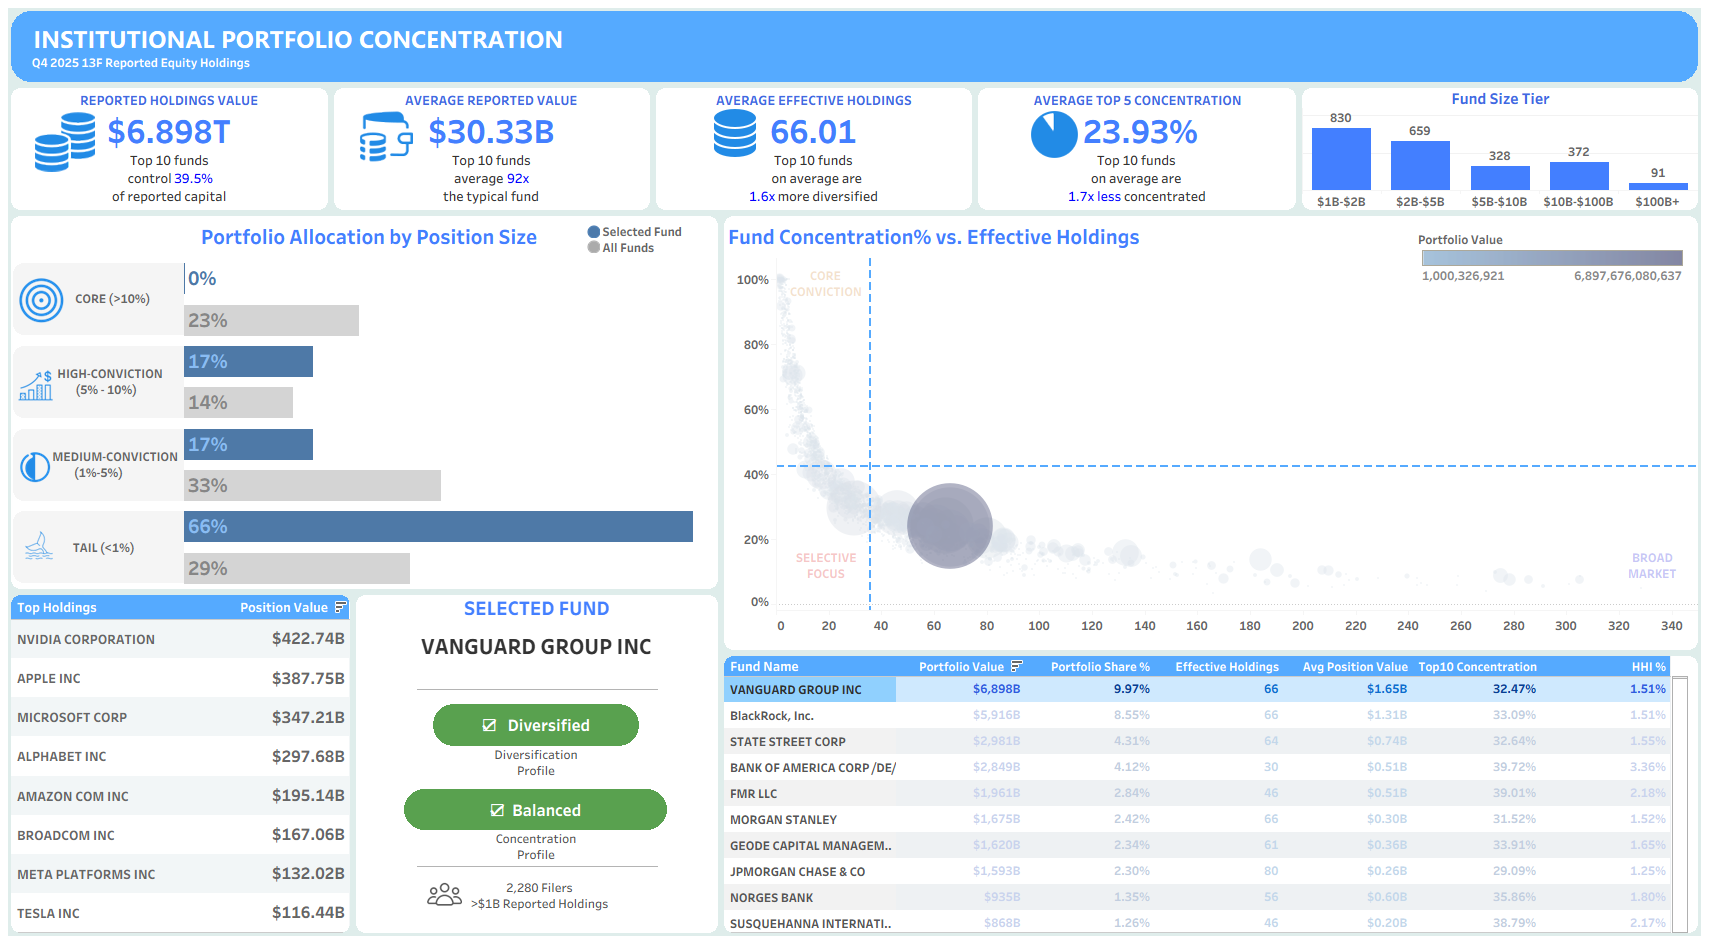

What the dashboard file says about the page in this screenshot:
{"tool":"tableau","page":{"name":"Dashboard 1","canvas":[1000,1000],"units":"permille","ordinal":0},"visuals":[{"type":"title","box":[4.7,8.5,990.6,81.5]},{"type":"worksheet","title":"Sheet 2","mark":"Automatic","box":[4.7,90,188.7,136]},{"type":"worksheet","title":"Sheet 3","mark":"Automatic","box":[193.4,90,188.5,136]},{"type":"worksheet","title":"Sheet 6","mark":"Automatic","box":[381.9,90,188.4,136]},{"type":"worksheet","title":"Sheet 7","mark":"Automatic","box":[570.3,90,189.7,136]},{"type":"worksheet","title":"Sheet 11","mark":"Bar","rows":["fund_name"],"cols":["Calculation_0336177946624000"],"box":[760,90,235.3,136]},{"type":"image","param":"C:/Users/Raav/Desktop/Work Stuff/PROJECT 2/Final/Institutional Portfolio Concent","box":[209.5,115.5,33.9,58.3]},{"type":"image","param":"C:/Users/Raav/Desktop/Work Stuff/PROJECT 2/Final/Institutional Portfolio Concent","box":[415.4,115.5,29.3,61.4]},{"type":"image","param":"C:/Users/Raav/Desktop/Work Stuff/PROJECT 2/Final/Institutional Portfolio Concent","box":[602.1,115.5,29.8,56.1]},{"type":"image","param":"C:/Users/Raav/Desktop/Work Stuff/PROJECT 2/Final/Institutional Portfolio Concent","box":[20.5,118.6,38,63.6]},{"type":"blank","box":[4.7,226,103,401.6]},{"type":"worksheet","title":"Sheet 8","mark":"Bar","rows":["position_bucket (bucket_summary_clean)"],"box":[107.7,226,314.4,401.6]},{"type":"worksheet","title":"Sheet 5","mark":"Circle","rows":["top5_concentration"],"cols":["effective_holdings"],"box":[422.1,226,573.2,465.3]},{"type":"text","box":[351.1,226.7,55.6,54]},{"type":"image","param":"C:/Users/Raav/Desktop/Work Stuff/PROJECT 2/Final/Institutional Portfolio Concent","box":[343.5,238.3,7.6,19.1]},{"type":"legend","title":"Sheet 5","param":"[federated.1q4xv8o17jksh01113fyi0gnvkeu].[sum:portfolio_value:qk]","box":[829.7,240.5,157.4,59.3]},{"type":"image","param":"C:/Users/Raav/Desktop/Work Stuff/PROJECT 2/Final/Institutional Portfolio Concent","box":[343.5,254.2,7.6,19.1]},{"type":"text","box":[5.9,278.6,101.8,76.3]},{"type":"image","param":"C:/Users/Raav/Desktop/Work Stuff/PROJECT 2/Final/Institutional Portfolio Concent","box":[8.8,290.2,31.1,56.1]},{"type":"text","box":[5.9,366.5,101.8,76.3]},{"type":"image","param":"C:/Users/Raav/Desktop/Work Stuff/PROJECT 2/Final/Institutional Portfolio Concent","box":[9.4,387.7,23.4,41.3]},{"type":"text","box":[5.9,454.4,101.8,76.3]},{"type":"image","param":"C:/Users/Raav/Desktop/Work Stuff/PROJECT 2/Final/Institutional Portfolio Concent","box":[10.6,476.7,20.5,36]},{"type":"text","box":[5.9,541.3,101.8,76.3]},{"type":"image","param":"C:/Users/Raav/Desktop/Work Stuff/PROJECT 2/Final/Institutional Portfolio Concent","box":[12.8,559.3,19.8,37.1]},{"type":"worksheet","title":"Sheet 9","mark":"Automatic","rows":["company"],"box":[4.7,627.6,201.9,363.9]},{"type":"worksheet","title":"Sheet 12","mark":"Automatic","box":[206.6,627.6,215.6,363.9]},{"type":"worksheet","title":"Sheet 10","mark":"Automatic","rows":["fund_name"],"box":[422.1,691.3,573.2,300.2]},{"type":"blank","box":[244,729.9,141,1.1]},{"type":"worksheet","title":"Sheet 13","mark":"Square","box":[253.4,745.8,120.5,44.5]},{"type":"text","box":[271.5,790.2,84.3,36]},{"type":"worksheet","title":"Sheet 14","mark":"Pie","box":[236.4,835.8,153.9,43.4]},{"type":"text","box":[271.5,877.1,84.3,39.2]},{"type":"blank","box":[244,917.4,141,1.1]},{"type":"text","box":[270.9,919.5,89.5,59.3]},{"type":"image","param":"C:/Users/Raav/Desktop/Work Stuff/PROJECT 2/Final/Institutional Portfolio Concent","box":[249.8,929,20.5,38.1]}]}

Visuals, with their boxes on the dashboard's canvas, which has no fixed pixel size, in thousandths of its width and height (x1, y1, x2, y2). These are canvas units, not pixel positions in the 1709x944 screenshot, which may show the page scaled, cropped or inside an application window:
title: (5,8,995,90)
"Sheet 2" worksheet: (5,90,193,226)
"Sheet 3" worksheet: (193,90,382,226)
"Sheet 6" worksheet: (382,90,570,226)
"Sheet 7" worksheet: (570,90,760,226)
"Sheet 11" worksheet (Bar marks): (760,90,995,226)
image: (210,116,243,174)
image: (415,116,445,177)
image: (602,116,632,172)
image: (20,119,58,182)
blank: (5,226,108,628)
"Sheet 8" worksheet (Bar marks): (108,226,422,628)
"Sheet 5" worksheet (Circle marks): (422,226,995,691)
text: (351,227,407,281)
image: (344,238,351,257)
"Sheet 5" legend: (830,240,987,300)
image: (344,254,351,273)
text: (6,279,108,355)
image: (9,290,40,346)
text: (6,366,108,443)
image: (9,388,33,429)
text: (6,454,108,531)
image: (11,477,31,513)
text: (6,541,108,618)
image: (13,559,33,596)
"Sheet 9" worksheet: (5,628,207,992)
"Sheet 12" worksheet: (207,628,422,992)
"Sheet 10" worksheet: (422,691,995,992)
blank: (244,730,385,731)
"Sheet 13" worksheet (Square marks): (253,746,374,790)
text: (272,790,356,826)
"Sheet 14" worksheet (Pie marks): (236,836,390,879)
text: (272,877,356,916)
blank: (244,917,385,918)
text: (271,920,360,979)
image: (250,929,270,967)
